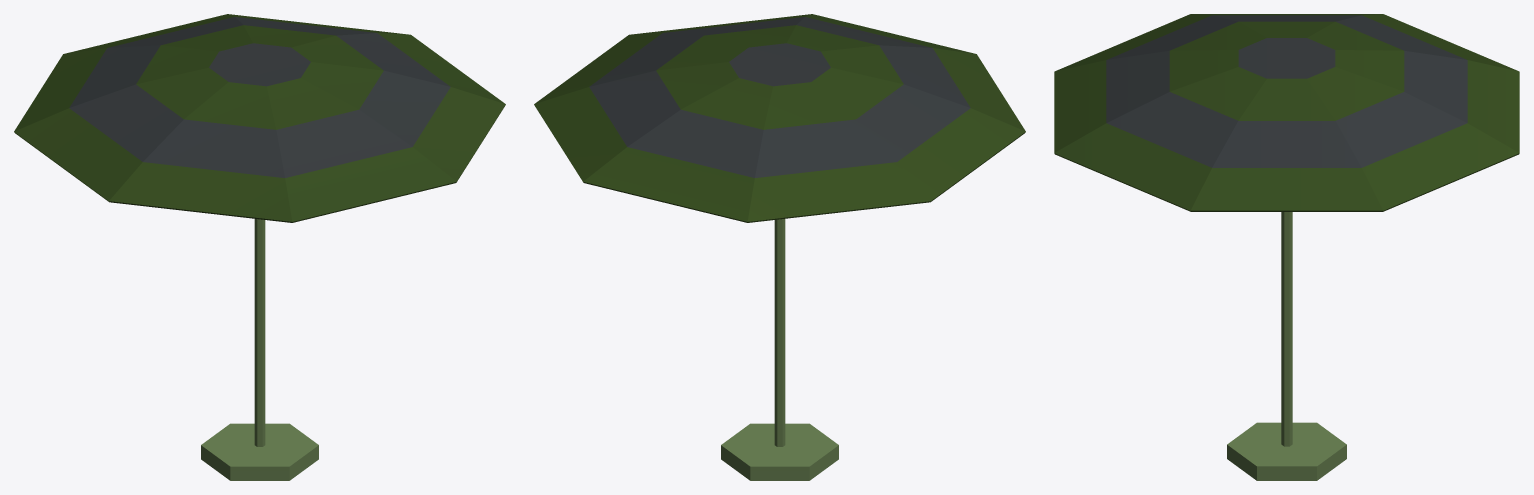
Rendered from Umbrella_05.fbx.
3 renders of one model, left to right at view 1: azimuth 30°, elevation 25°; view 2: azimuth 150°, elevation 25°; view 3: azimuth 270°, elevation 25°, orthographic.
Parts seen in each view (by area): view 1: Umbrella_05; view 2: Umbrella_05; view 3: Umbrella_05.
Boxes of the visible parts, x1,y1,x2,y2 form: Umbrella_05: [14, 14, 505, 480]; Umbrella_05: [534, 14, 1025, 480]; Umbrella_05: [1054, 14, 1519, 480].
Size of the model in its own units: 2.77 by 2.63 by 2.77.
